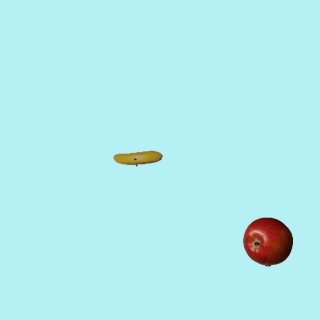Apple Braeburn: (242, 216, 292, 266)
Banana: (112, 133, 162, 183)
